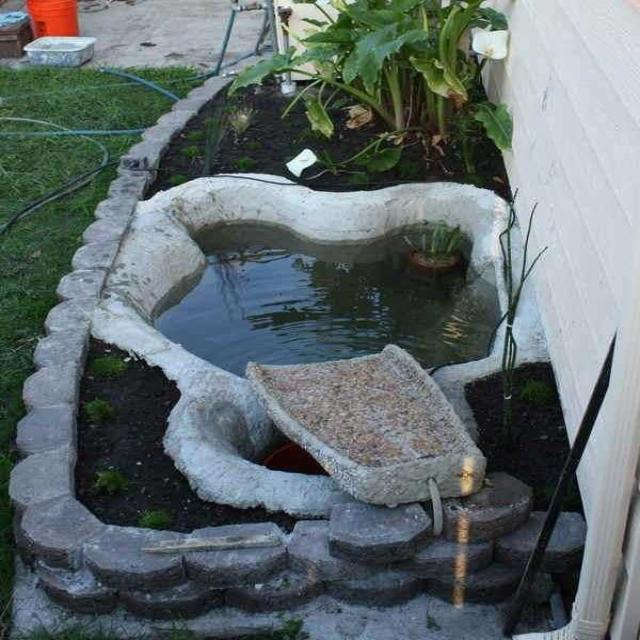Ponds: (91, 175, 549, 510)
